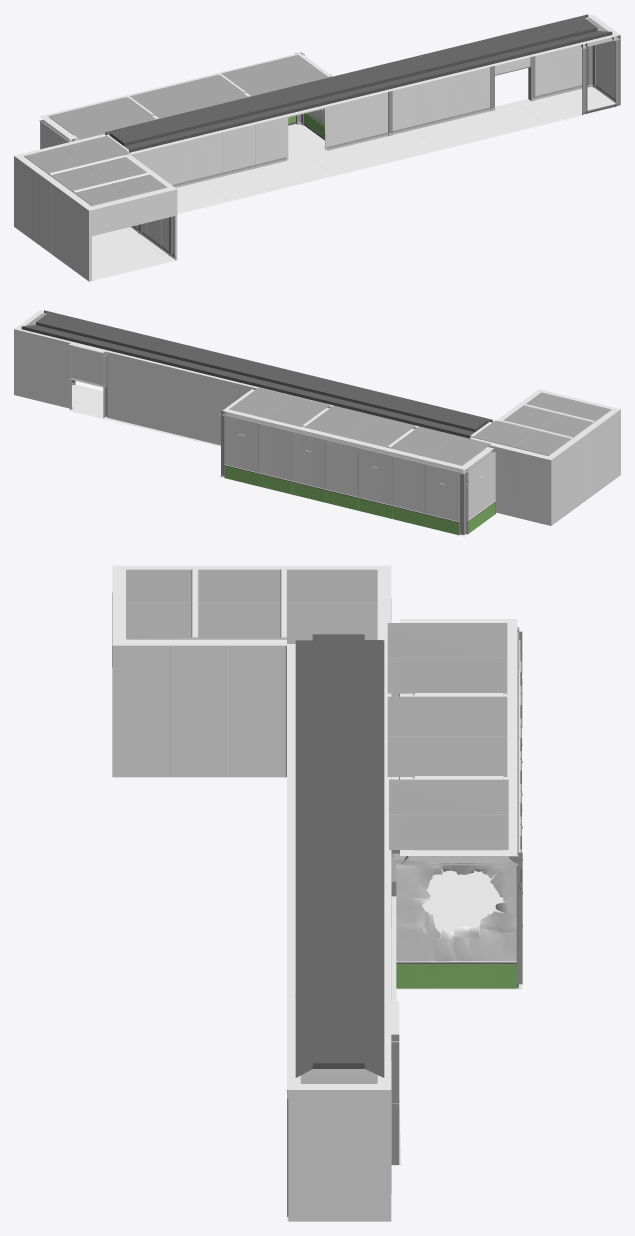
The picture shows the model from 3 angles, top to bottom: view 1: azimuth 30°, elevation 25°; view 2: azimuth 150°, elevation 25°; view 3: azimuth 270°, elevation 25°; orthographic projection. The views are drawn at different scales.
Visible parts, largest first — view 1: SM_H_Building_FutureTech_HStairs_04_InterWall_01E; view 2: SM_H_Building_FutureTech_HStairs_04_InterWall_01E; view 3: SM_H_Building_FutureTech_HStairs_04_InterWall_01E.
Boxes of the visible parts, x1,y1,x2,y2 form: SM_H_Building_FutureTech_HStairs_04_InterWall_01E: (14, 14, 620, 281); SM_H_Building_FutureTech_HStairs_04_InterWall_01E: (14, 310, 620, 536); SM_H_Building_FutureTech_HStairs_04_InterWall_01E: (112, 565, 522, 1221).
Size of the model in its own units: 549 by 1657 by 213.
